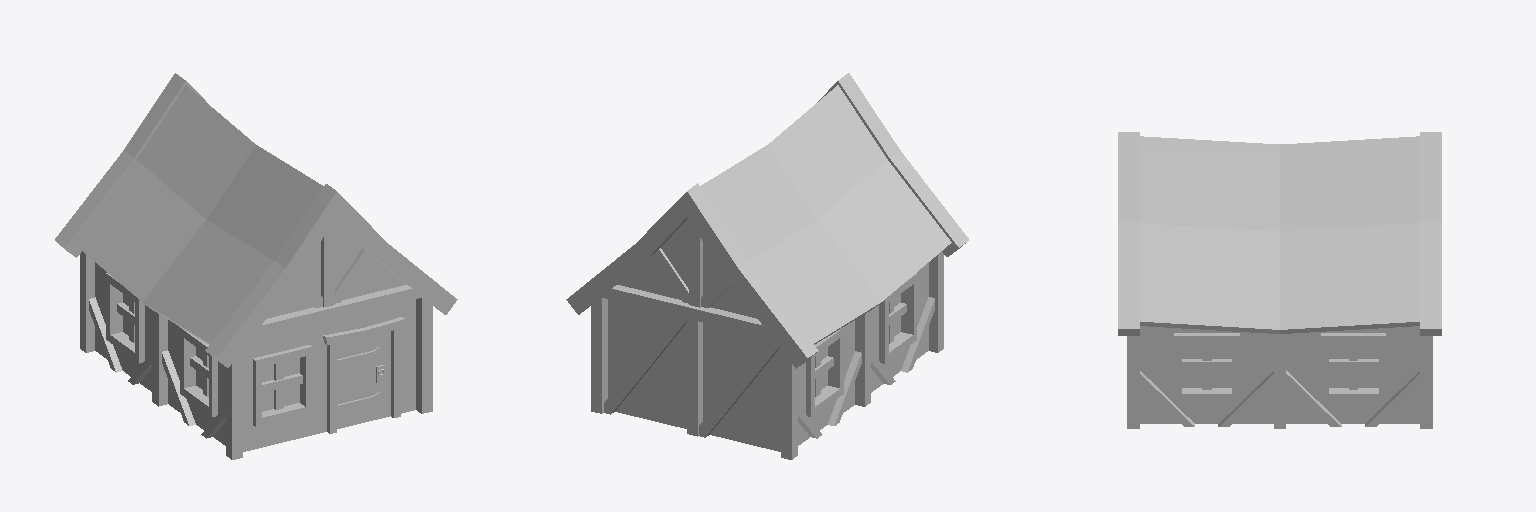
The model's file is House.obj.
3 views of the same model, side by side, from view 1: azimuth 30°, elevation 25°; view 2: azimuth 150°, elevation 25°; view 3: azimuth 270°, elevation 25° (orthographic).
Visible parts, largest first — view 1: Cube; view 2: Cube; view 3: Cube.
Boxes of the visible parts, <box> form: Cube: <box>55,73,457,459</box>; Cube: <box>566,73,968,459</box>; Cube: <box>1118,132,1441,428</box>.
Bounding box in the file's own units: 7.7 × 7.56 × 8.93.